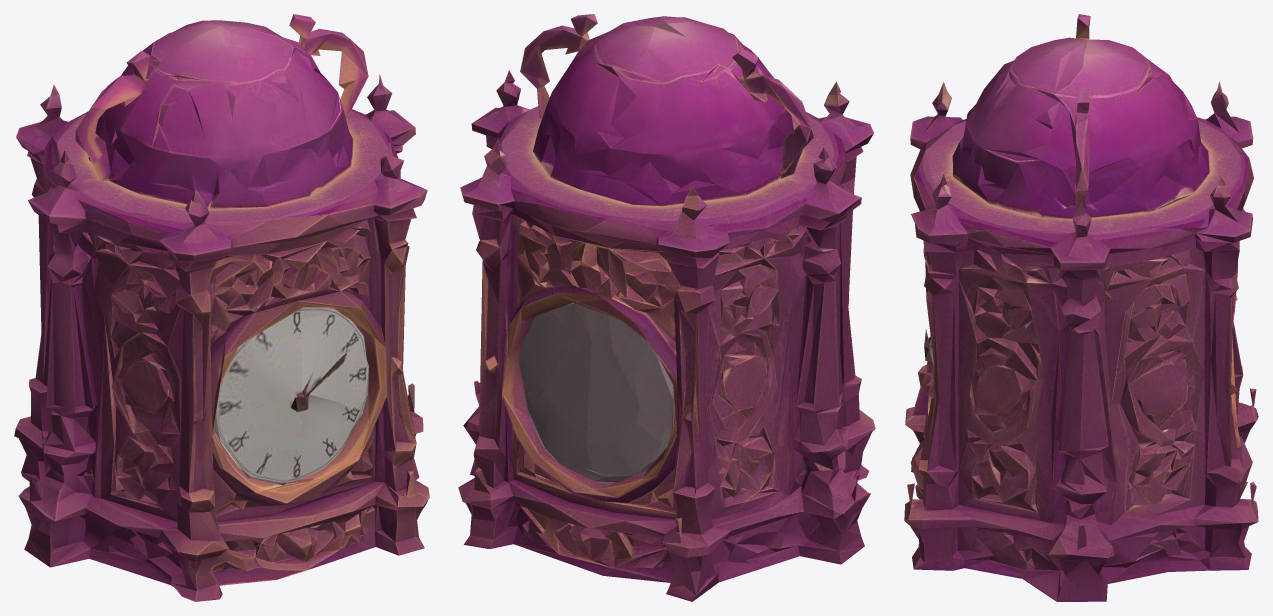
File: torre_relogio.glb
3 views of the same model, side by side, from view 1: azimuth 30°, elevation 25°; view 2: azimuth 150°, elevation 25°; view 3: azimuth 270°, elevation 25° (orthographic). The views are drawn at different scales.
Size of the model in its own units: 1.56 by 1.89 by 1.28.
Materials: 1 (1 with a texture image).
